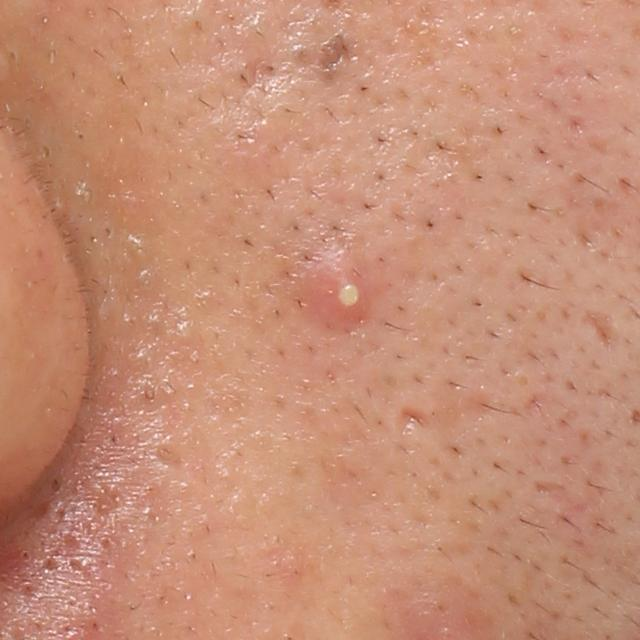atrophic_scar: (211, 62, 276, 120), (583, 309, 627, 357), (393, 408, 432, 439)
pustule: (307, 261, 376, 329)
